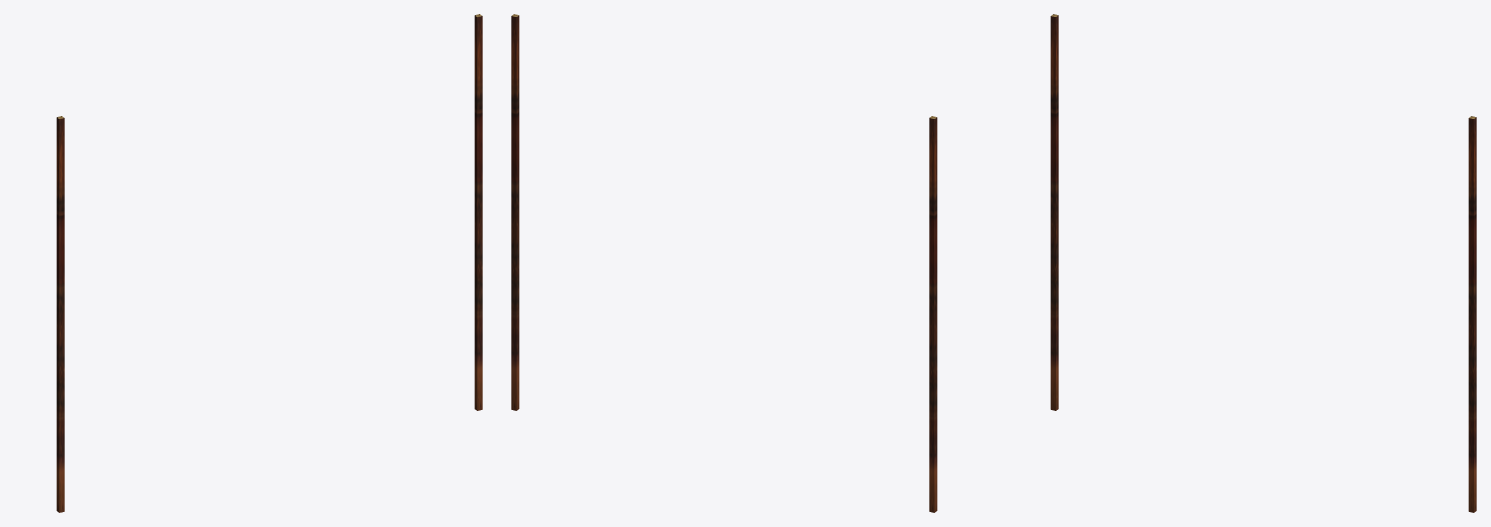
The model's file is odeon_prop.dae.
3 renders of one model, left to right at view 1: azimuth 30°, elevation 25°; view 2: azimuth 150°, elevation 25°; view 3: azimuth 330°, elevation 25°, orthographic.
Parts seen in each view (by area): view 1: odeon.001; view 2: odeon.001; view 3: odeon.001.
Boxes of the visible parts, left/top/right/bottom form: odeon.001: left=56, top=14, right=482, bottom=512; odeon.001: left=511, top=14, right=937, bottom=512; odeon.001: left=1050, top=14, right=1476, bottom=512.
Size of the model in its own units: 16.88 by 0.1775 by 13.6.
